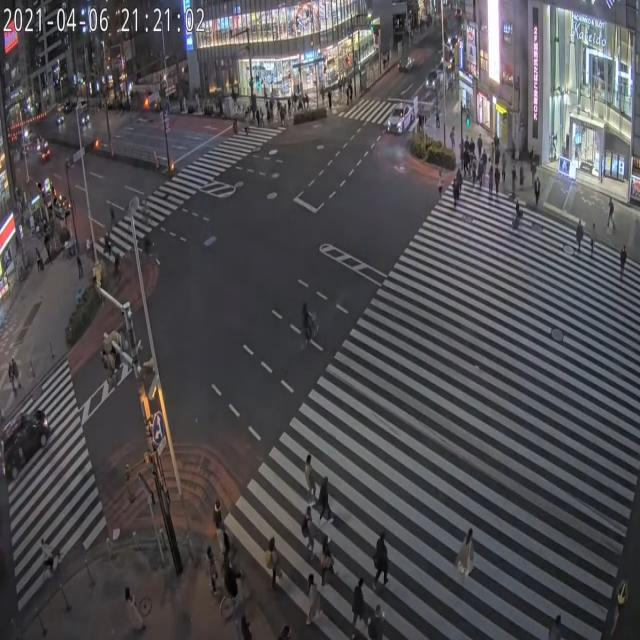bicycle: (220, 553, 247, 619), (297, 299, 320, 355)
humans: (211, 493, 235, 546), (263, 531, 281, 590), (305, 566, 322, 627), (302, 447, 318, 505), (374, 530, 388, 588), (351, 574, 363, 635), (302, 510, 316, 555), (322, 537, 333, 590), (464, 526, 474, 582), (511, 192, 522, 236), (321, 475, 331, 523), (617, 245, 629, 283), (436, 163, 446, 204), (575, 216, 584, 258), (462, 150, 471, 182), (589, 222, 596, 260), (493, 164, 500, 199), (453, 176, 459, 212), (478, 160, 482, 194), (536, 177, 540, 205), (489, 165, 492, 199)
